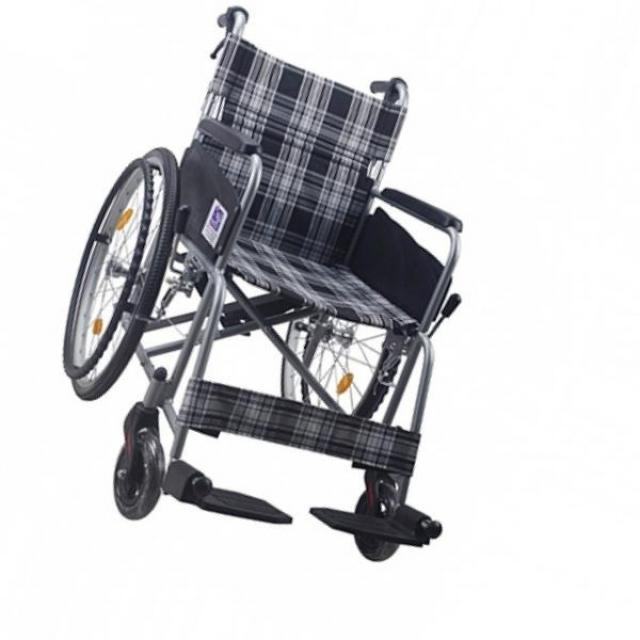wheelchair: (29, 0, 497, 560)
